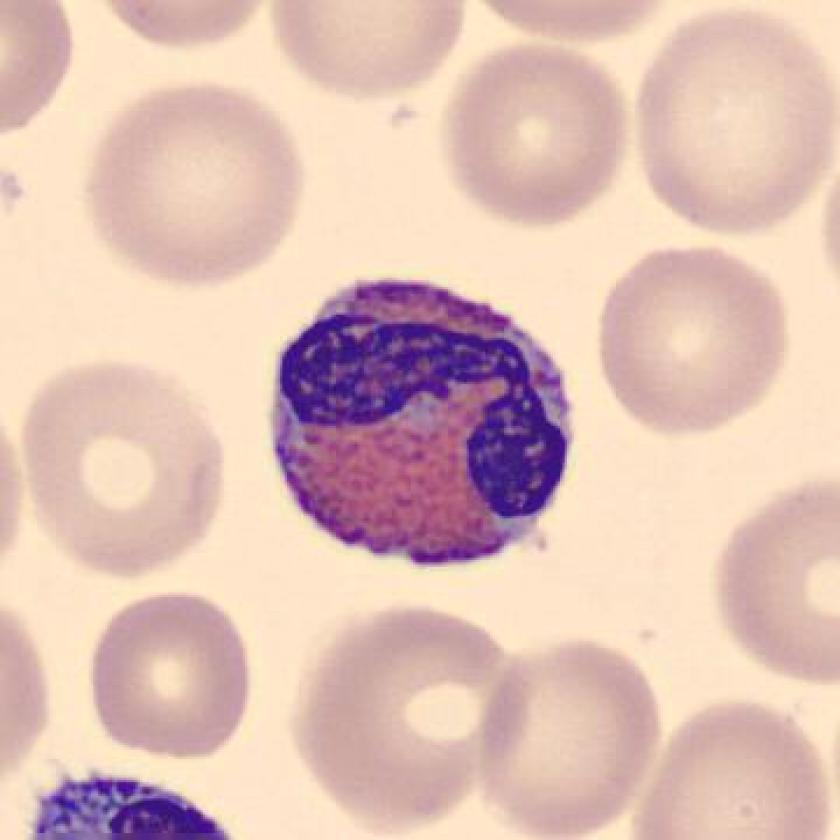eosinophil: (263, 265, 585, 579)
